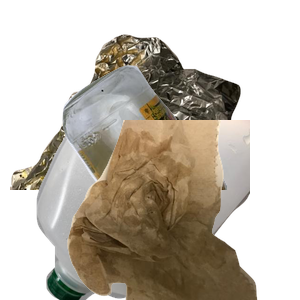glass: (60, 63, 300, 243)
metal: (10, 32, 250, 212)
plastic: (34, 120, 274, 300)
trash: (65, 120, 300, 300)
